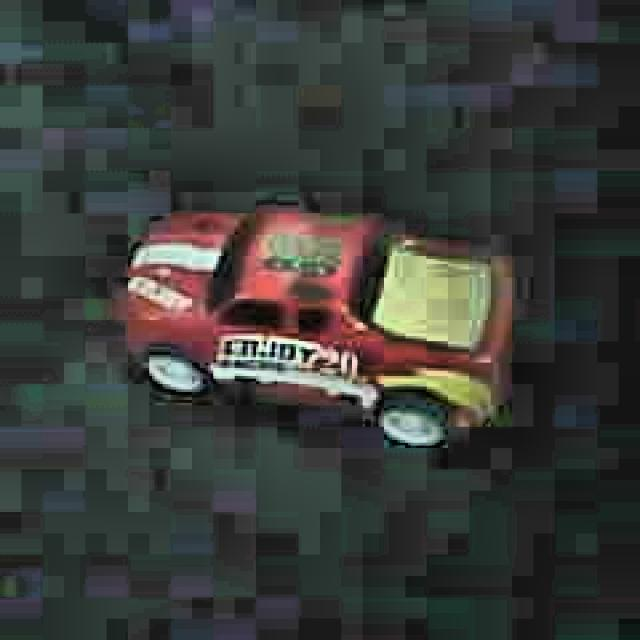car: (117, 200, 521, 461)
